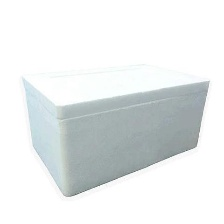foam_box: (16, 52, 214, 200)
